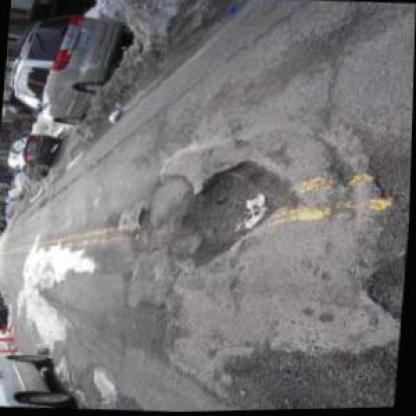pothole: (132, 204, 154, 223)
